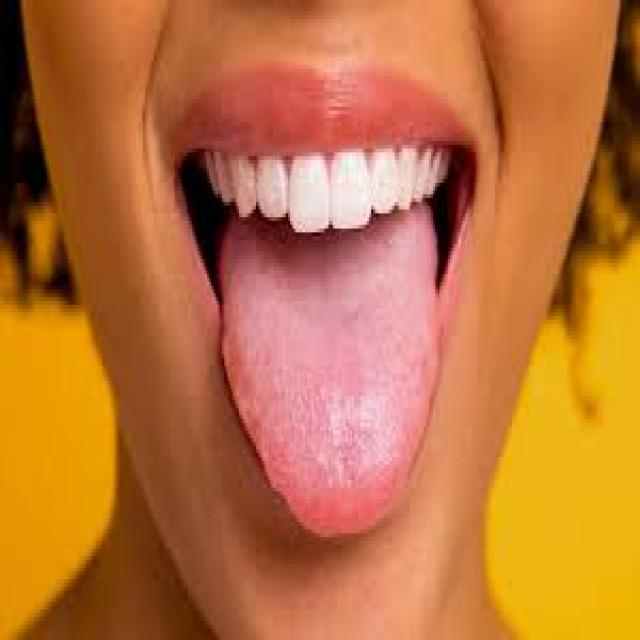normal_tongue: (192, 203, 486, 578)
